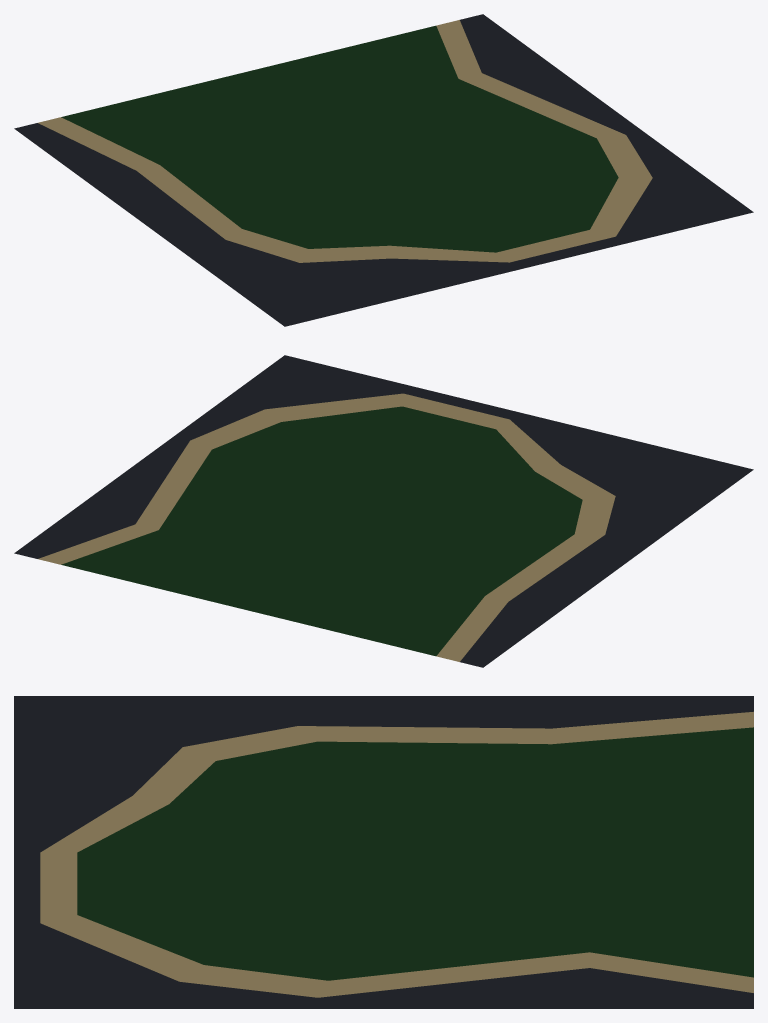
File: terrain_plains_penninsula4.fbx
The picture shows the model from 3 angles, top to bottom: view 1: azimuth 30°, elevation 25°; view 2: azimuth 150°, elevation 25°; view 3: azimuth 270°, elevation 25°; orthographic projection. The views are drawn at different scales.
Parts seen in each view (by area): view 1: terrain_plains_penninsula4; view 2: terrain_plains_penninsula4; view 3: terrain_plains_penninsula4.
Boxes of the visible parts, x1=… form: terrain_plains_penninsula4: x1=14, y1=14, x2=753, y2=326; terrain_plains_penninsula4: x1=14, y1=355, x2=753, y2=667; terrain_plains_penninsula4: x1=14, y1=696, x2=753, y2=1008.
Bounding box in the file's own units: 10 × 7.11e-15 × 10.
